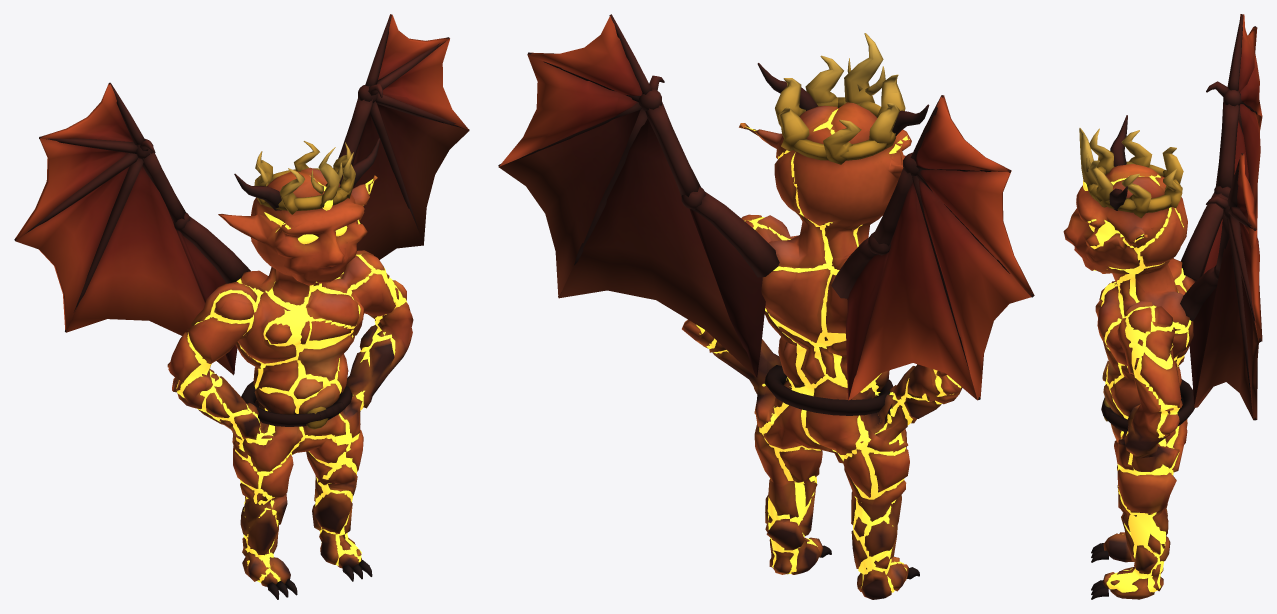
The model's file is firedemon.fbx.
3 views of the same model, side by side, from view 1: azimuth 30°, elevation 25°; view 2: azimuth 150°, elevation 25°; view 3: azimuth 270°, elevation 25° (orthographic). The views are drawn at different scales.
Parts seen in each view (by area): view 1: FireDemon_Body, FireDemon_GLOW; view 2: FireDemon_Body, FireDemon_GLOW; view 3: FireDemon_Body, FireDemon_GLOW.
Boxes of the visible parts, x1=… form: FireDemon_Body: x1=14, y1=14, x2=469, y2=599; FireDemon_GLOW: x1=176, y1=176, x2=407, y2=582; FireDemon_Body: x1=498, y1=14, x2=1034, y2=599; FireDemon_GLOW: x1=696, y1=109, x2=961, y2=592; FireDemon_Body: x1=1063, y1=14, x2=1262, y2=599; FireDemon_GLOW: x1=1083, y1=174, x2=1191, y2=592.
Size of the model in its own units: 4.13 by 4.22 by 1.54.
2 materials, 1 textured.
